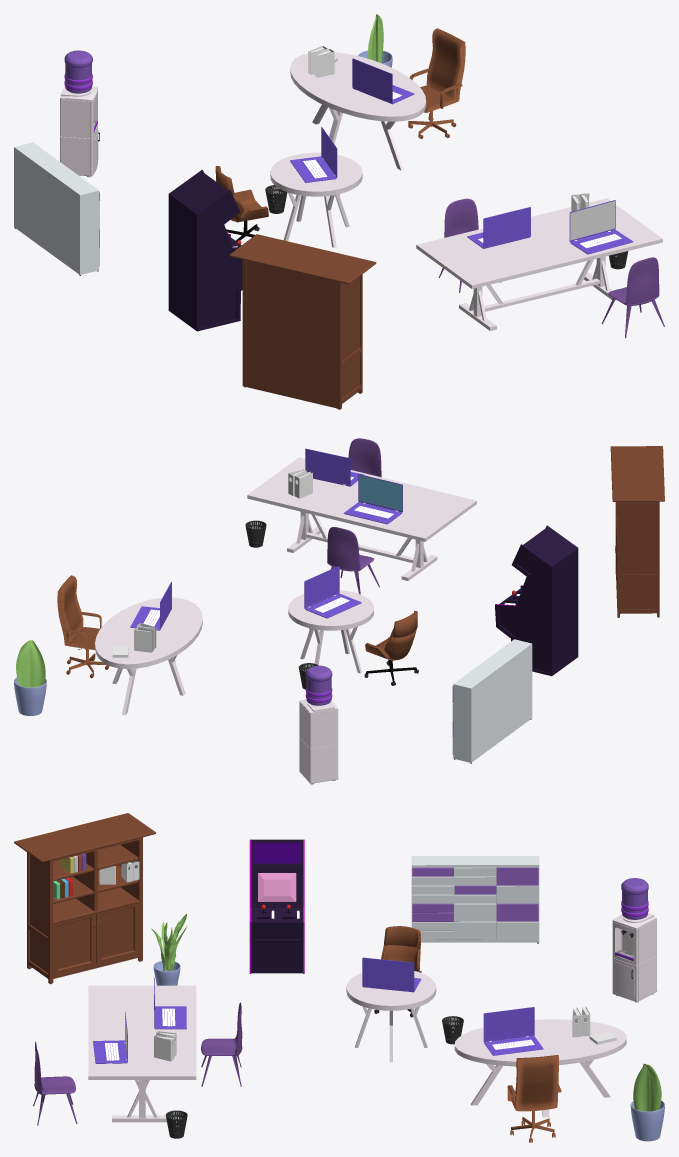
The picture shows the model from 3 angles, top to bottom: view 1: azimuth 30°, elevation 25°; view 2: azimuth 150°, elevation 25°; view 3: azimuth 270°, elevation 25°; orthographic projection. The views are drawn at different scales.
Parts seen in each view (by area): view 1: Plane.006, Table02.001, Jatekgep, oficina_armario, Table11.001, Table11, chairCombined, Plane.002, chair, body.005, body.007, Screen (+4 smaller); view 2: Jatekgep, Table02.001, Plane.006, oficina_armario, Table11.001, Plane.002, Table11, chairCombined, chair.001, body.006, body.004, 3d-model (+6 smaller); view 3: Plane.006, oficina_armario, Table02.001, Jatekgep, Table11.001, Plane.002, chairCombined, Table11, body.007, body.006, 3d-model, chair.001 (+11 smaller).
Part boxes in pixels (<box>): Plane.006: <box>229,234,376,409</box>; Table02.001: <box>416,198,662,330</box>; Jatekgep: <box>168,170,242,331</box>; oficina_armario: <box>14,142,99,275</box>; Table11.001: <box>290,52,426,170</box>; Table11: <box>270,152,362,247</box>; chairCombined: <box>408,28,465,138</box>; Plane.002: <box>60,85,98,175</box>; chair: <box>601,257,664,338</box>; body.005: <box>467,207,530,248</box>; body.007: <box>352,58,414,104</box>; Screen: <box>570,201,614,240</box>; Jatekgep: <box>495,525,578,676</box>; Table02.001: <box>247,457,476,580</box>; Plane.006: <box>610,446,664,617</box>; oficina_armario: <box>452,639,532,763</box>; Table11.001: <box>95,597,202,714</box>; Plane.002: <box>299,699,338,783</box>; Table11: <box>288,590,373,673</box>; chairCombined: <box>57,575,109,678</box>; chair.001: <box>327,527,379,594</box>; body.006: <box>304,566,361,618</box>; body.004: <box>305,448,363,486</box>; 3d-model: <box>365,611,417,660</box>; Plane.006: <box>14,813,155,984</box>; oficina_armario: <box>411,856,539,943</box>; Table02.001: <box>88,985,196,1122</box>; Jatekgep: <box>249,839,304,973</box>; Table11.001: <box>454,1019,626,1117</box>; Plane.002: <box>612,913,656,1001</box>; chairCombined: <box>507,1055,561,1142</box>; Table11: <box>346,971,436,1062</box>; body.007: <box>483,1007,543,1055</box>; body.006: <box>362,957,421,992</box>; 3d-model: <box>381,926,421,972</box>; chair.001: <box>201,1002,242,1086</box>.
Bounding box in the file's own units: 57.55 × 17.04 × 75.78.
